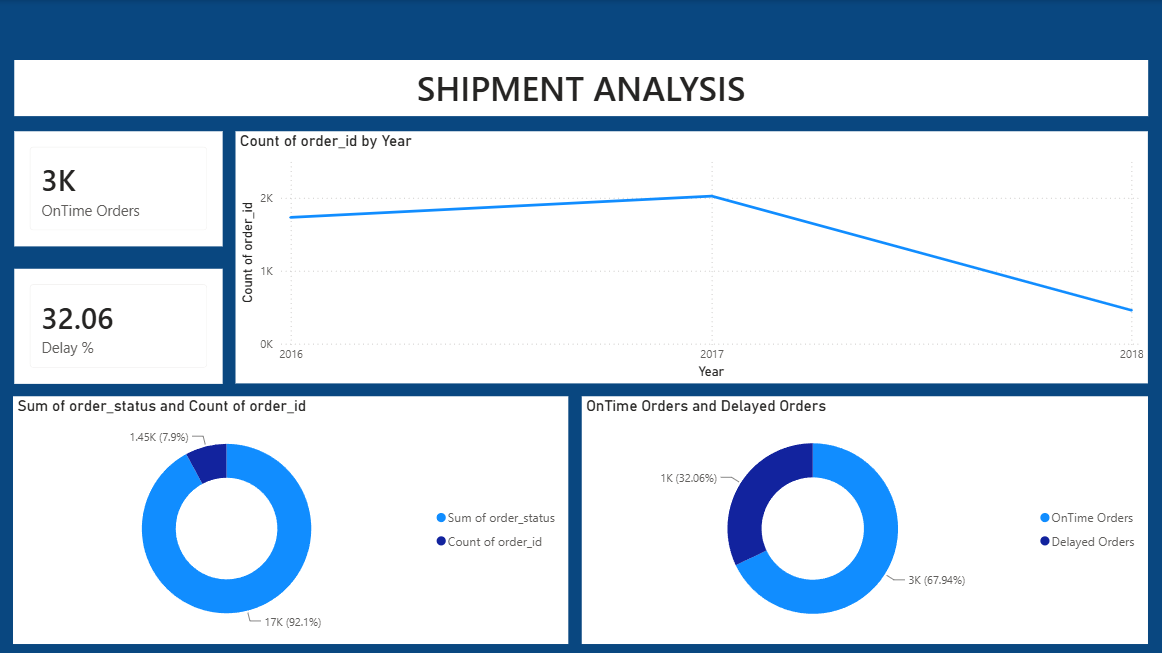

What the dashboard file says about the page in this screenshot:
{"tool":"powerbi","page":{"name":"Shipment Analysis","canvas":[1280,720],"ordinal":3},"visuals":[{"type":"donutChart","fields":{"Y":["Sum(vw_sales_summary.order_status)","Count(vw_sales_summary.order_id)"]},"box":[16.5,435,609.3,271.7],"z":0},{"type":"lineChart","fields":{"Category":["vw_sales_summary.order_date.Variation.Date Hierarchy.Year","vw_sales_summary.order_date.Variation.Date Hierarchy.Quarter","vw_sales_summary.order_date.Variation.Date Hierarchy.Month","vw_sales_summary.order_date.Variation.Date Hierarchy.Day"],"Y":["CountNonNull(vw_sales_summary.order_id)"]},"box":[260.7,144.1,1001.7,277.2],"z":1000},{"type":"cardVisual","fields":{"Data":["vw_sales_summary.Delay %"]},"box":[17.8,295,229.2,126.2],"z":2000},{"type":"donutChart","fields":{"Y":["vw_sales_summary.OnTime Orders","vw_sales_summary.Delayed Orders"]},"box":[640.8,435,621.6,271.7],"z":3000},{"type":"cardVisual","fields":{"Data":["vw_sales_summary.OnTime Orders","vw_sales_summary.OnTime Orders"]},"box":[17.8,144.1,229.2,126.2],"z":4000},{"type":"textbox","box":[17.8,65.9,1244.6,61.7],"z":5000}]}

Visuals, with their boxes in screenshot pixels (x1, y1, x2, y2), scaled from the page's 1280x720 canvas onto the 1162x653 screenshot:
donutChart - Sum(vw_sales_summary.order_status) x Count(vw_sales_summary.order_id): 15:395:568:641
lineChart - vw_sales_summary.order_date.Variation.Date Hierarchy.Year x vw_sales_summary.order_date.Variation.Date Hierarchy.Quarter: 237:131:1146:382
cardVisual - vw_sales_summary.Delay %: 16:268:224:382
donutChart - vw_sales_summary.OnTime Orders x vw_sales_summary.Delayed Orders: 582:395:1146:641
cardVisual - vw_sales_summary.OnTime Orders x vw_sales_summary.OnTime Orders: 16:131:224:245
textbox: 16:60:1146:116
